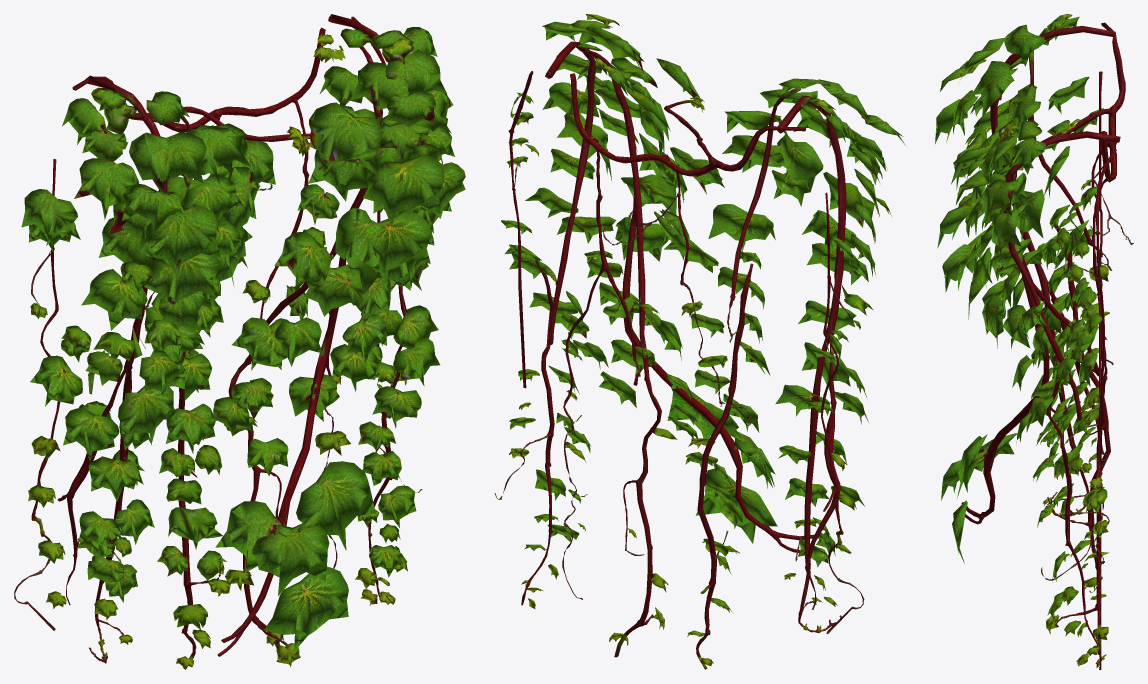
File: vines.glb
3 views of the same model, side by side, from view 1: azimuth 30°, elevation 25°; view 2: azimuth 150°, elevation 25°; view 3: azimuth 270°, elevation 25° (orthographic). The views are drawn at different scales.
Visible parts, largest first — view 1: vines.001; view 2: vines.001; view 3: vines.001.
Boxes of the visible parts, x1,y1,x2,y2 form: vines.001: (14,14,465,669); vines.001: (494,14,905,669); vines.001: (935,14,1133,669).
Bounding box in the file's own units: 10.37 × 15.54 × 5.02.
1 material, 1 textured.
